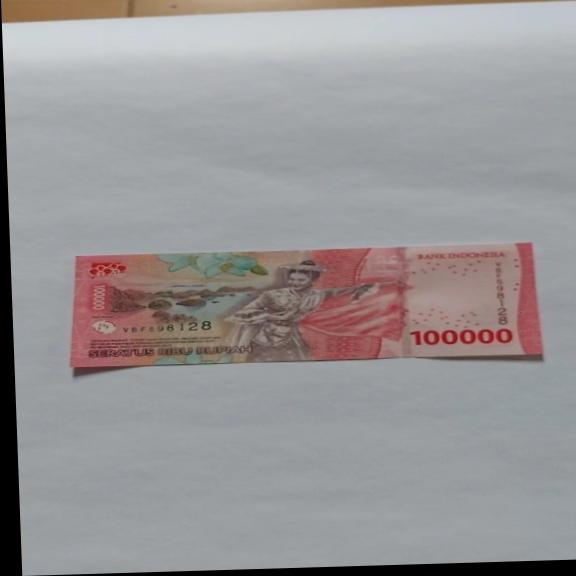Kertas: (66, 241, 543, 372)
